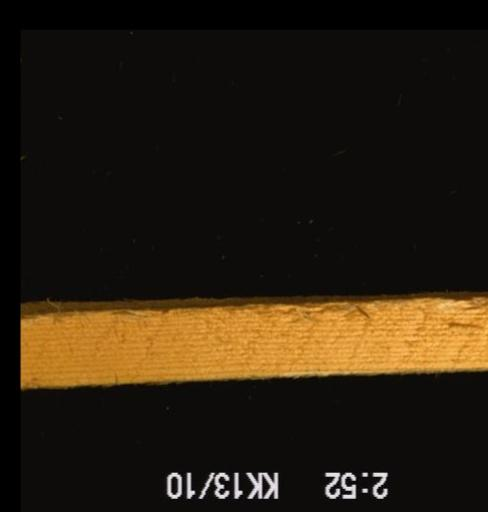wave: (19, 297, 263, 318)
